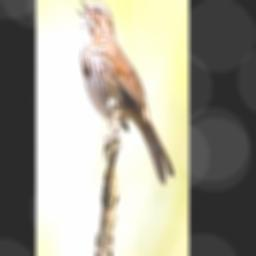Sparrow: (75, 0, 175, 187)
